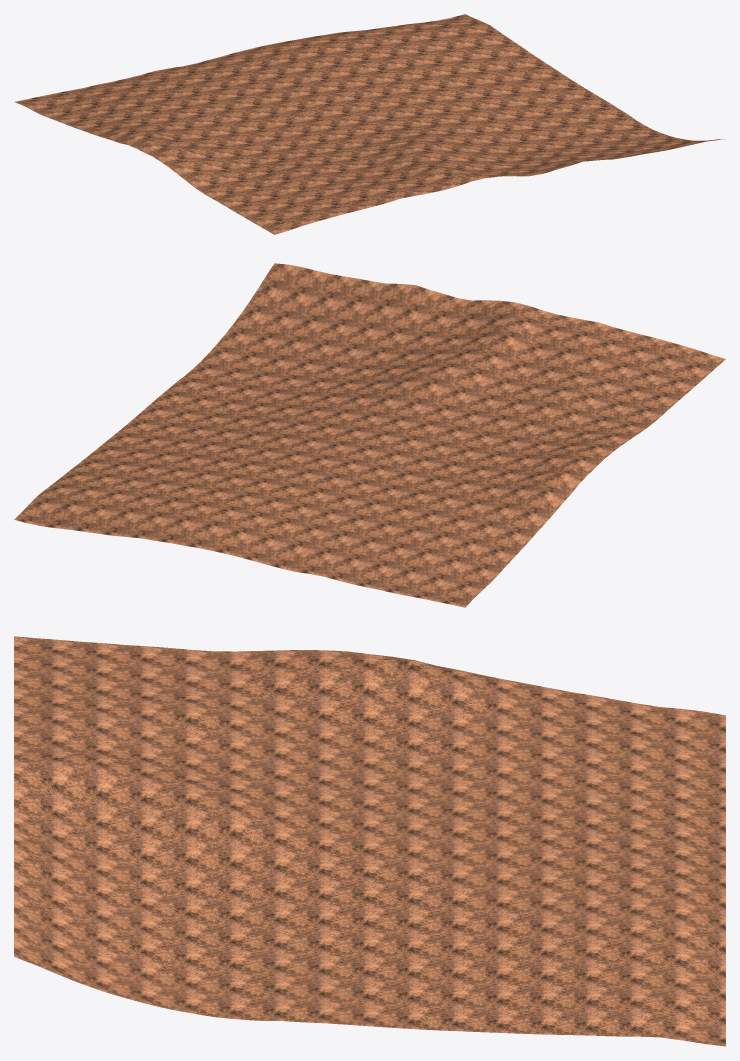
The model's file is terrain_02_13.dae.
3 views of the same model, one above another, from view 1: azimuth 30°, elevation 25°; view 2: azimuth 150°, elevation 25°; view 3: azimuth 270°, elevation 25° (orthographic). The views are drawn at different scales.
Visible parts, largest first — view 1: terrain_02_13-node; view 2: terrain_02_13-node; view 3: terrain_02_13-node.
Part boxes in pixels (x1,y1,x2,y2): terrain_02_13-node: (14, 14, 724, 234); terrain_02_13-node: (14, 263, 725, 607); terrain_02_13-node: (14, 636, 725, 1046).
Bounding box in the file's own units: 128 × 128 × 23.25.
Materials: 1 (1 with a texture image).
